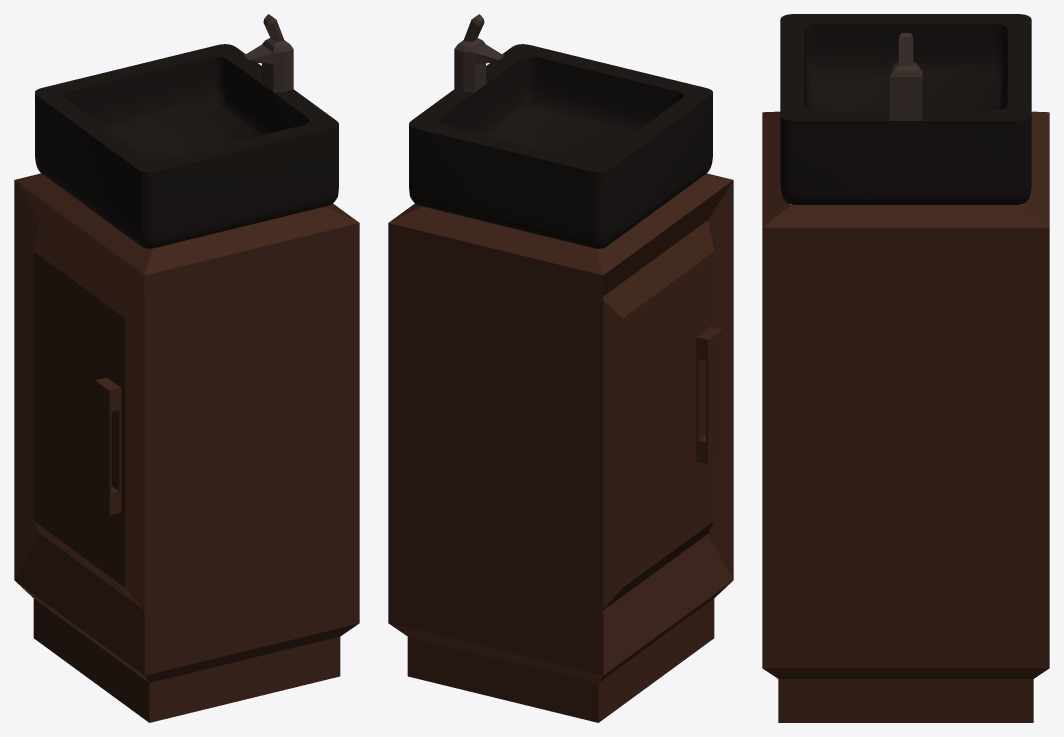
Rendered from SinkRight.fbx.
3 views of the same model, side by side, from view 1: azimuth 30°, elevation 25°; view 2: azimuth 150°, elevation 25°; view 3: azimuth 270°, elevation 25° (orthographic). The views are drawn at different scales.
Visible parts, largest first — view 1: Left Cabnit Sink; view 2: Left Cabnit Sink; view 3: Left Cabnit Sink.
Boxes of the visible parts, left/top/right/bottom form: Left Cabnit Sink: left=14, top=14, right=359, bottom=722; Left Cabnit Sink: left=388, top=14, right=733, bottom=722; Left Cabnit Sink: left=762, top=14, right=1049, bottom=722.
Bounding box in the file's own units: 33.47 × 87.47 × 33.3.
